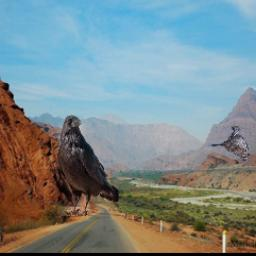Crow: (57, 116, 119, 217)
Sparrow: (208, 127, 251, 163)
